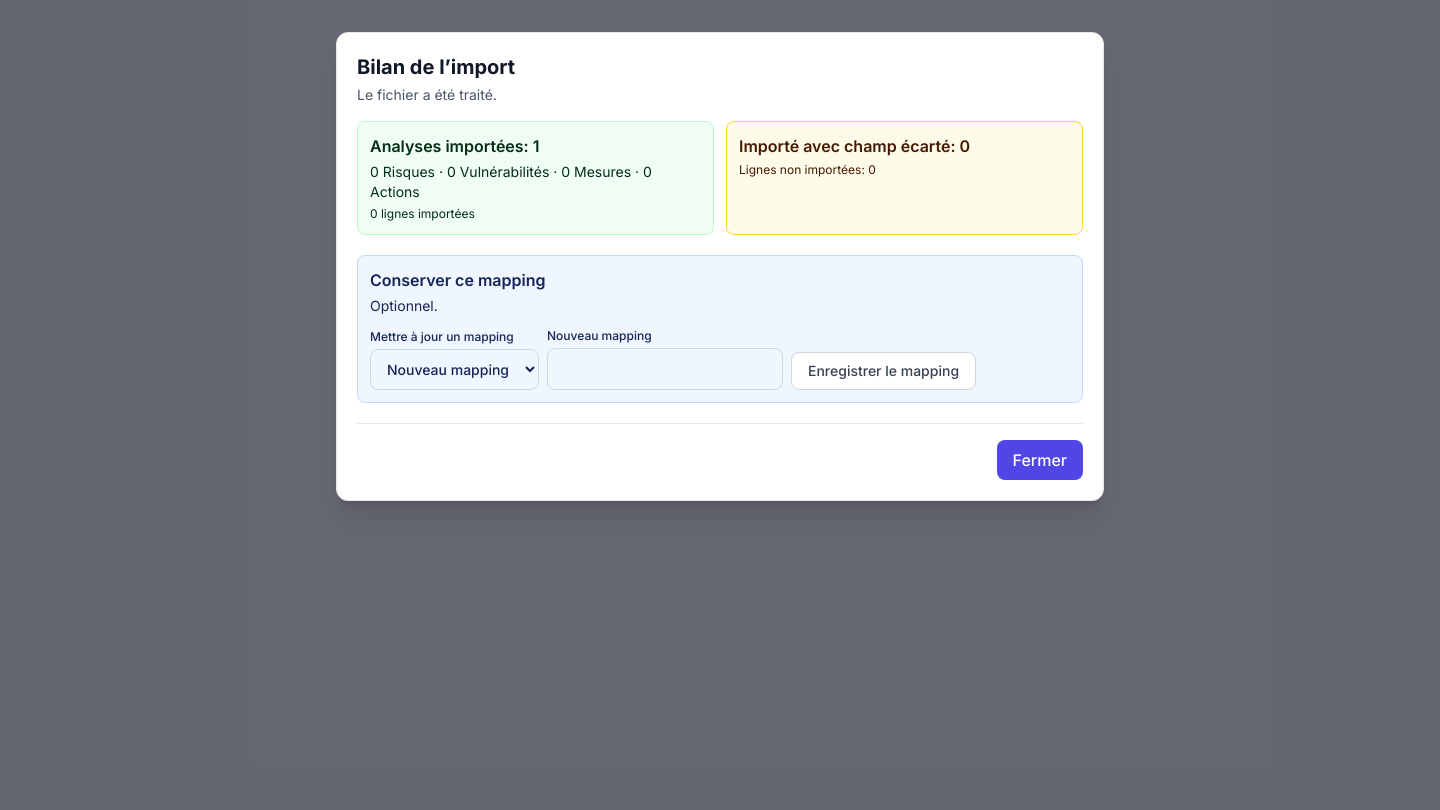
Test case: HistoricImportSummaryDialog › enregistre le mapping depuis le bilan dans l’organisation cible
The width and height of the screenshot is (1440, 810).
Type "Historique 2026" into the field labelled "Nouveau mapping".
click(665, 369); type("Historique 2026")  # box [547, 348, 783, 390]
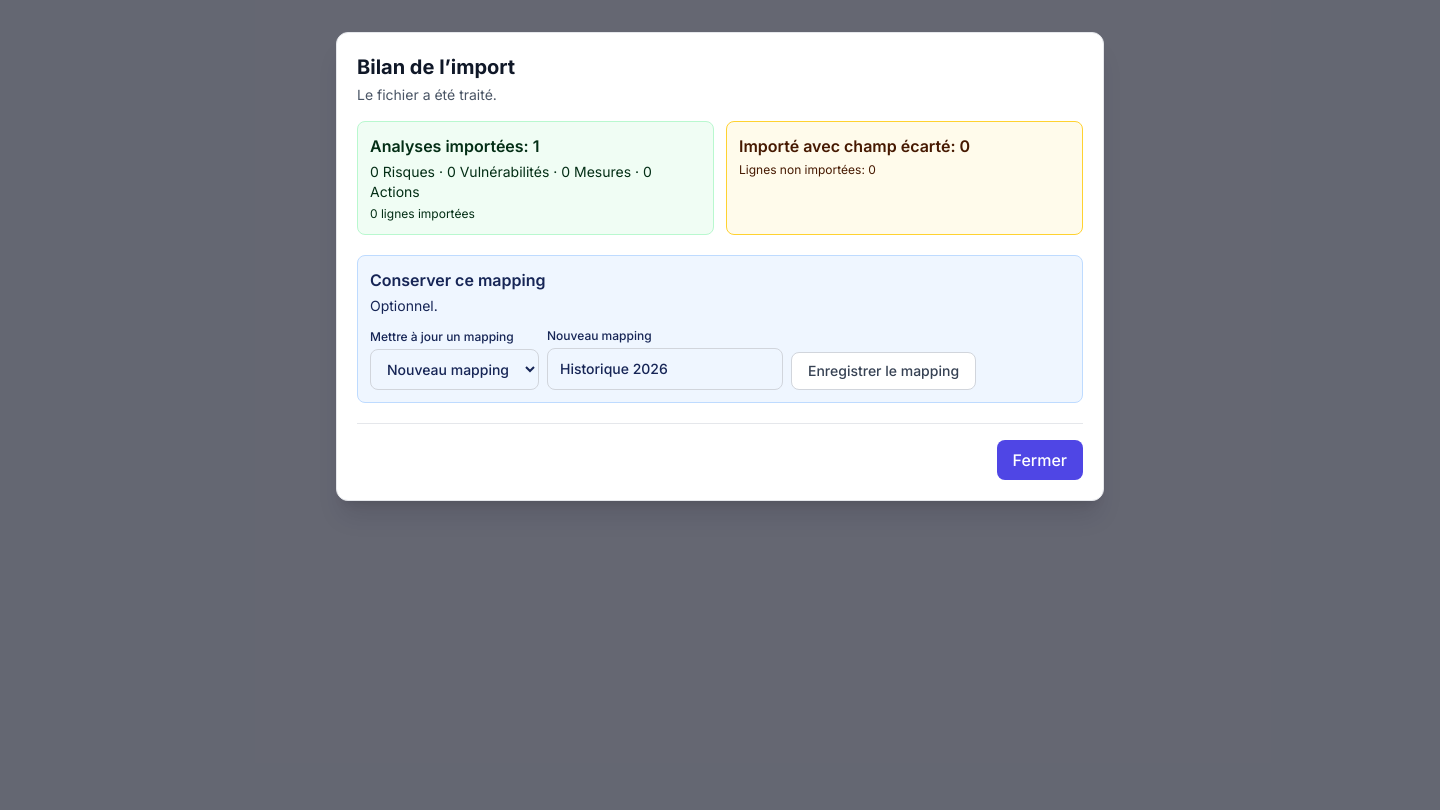
Click the button "Enregistrer le mapping".
click(884, 371)  # box [791, 352, 976, 390]
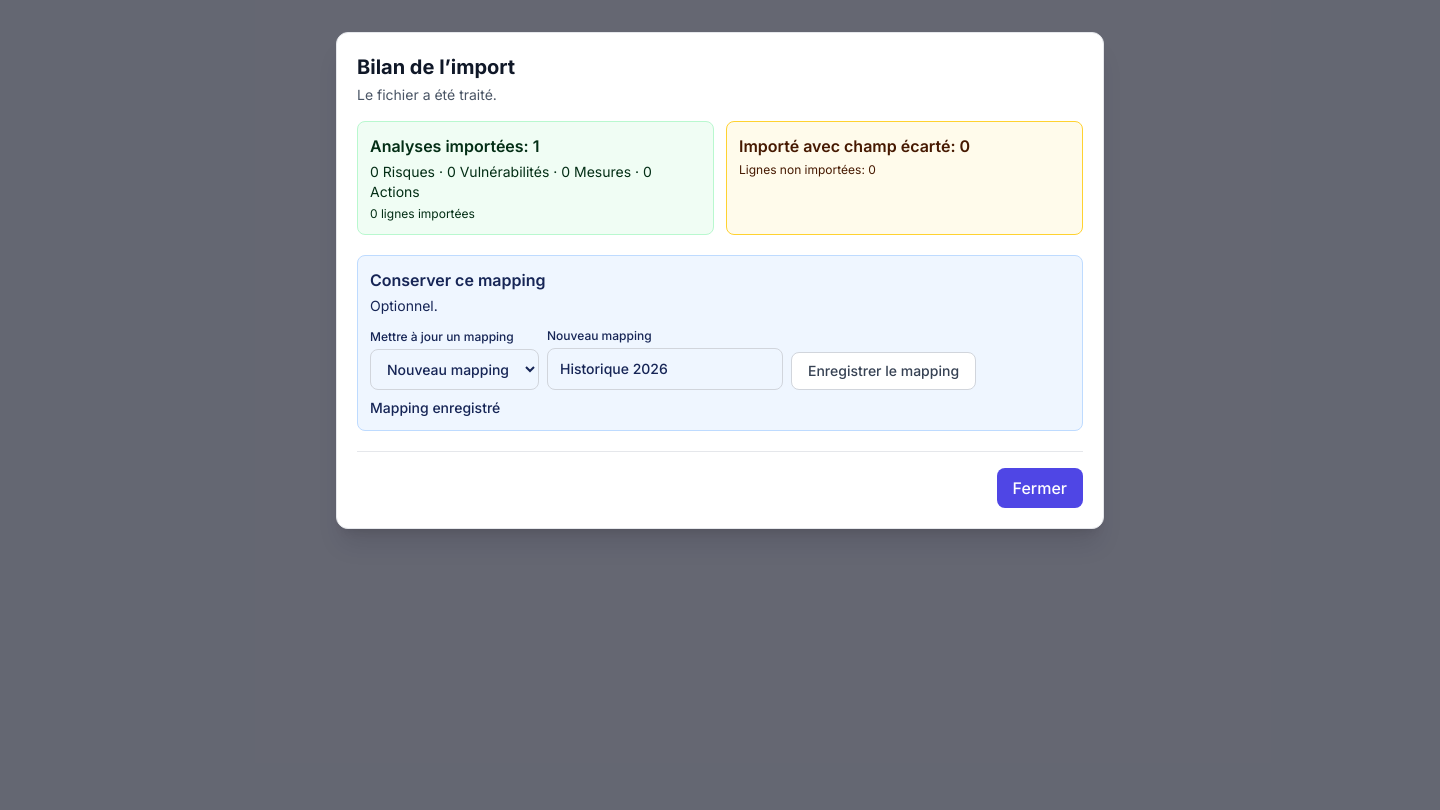
Check: the text "Mapping enregistré" is shown, box [370, 399, 500, 416]
